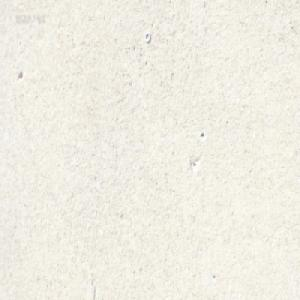Washer: (144, 32, 151, 43)
